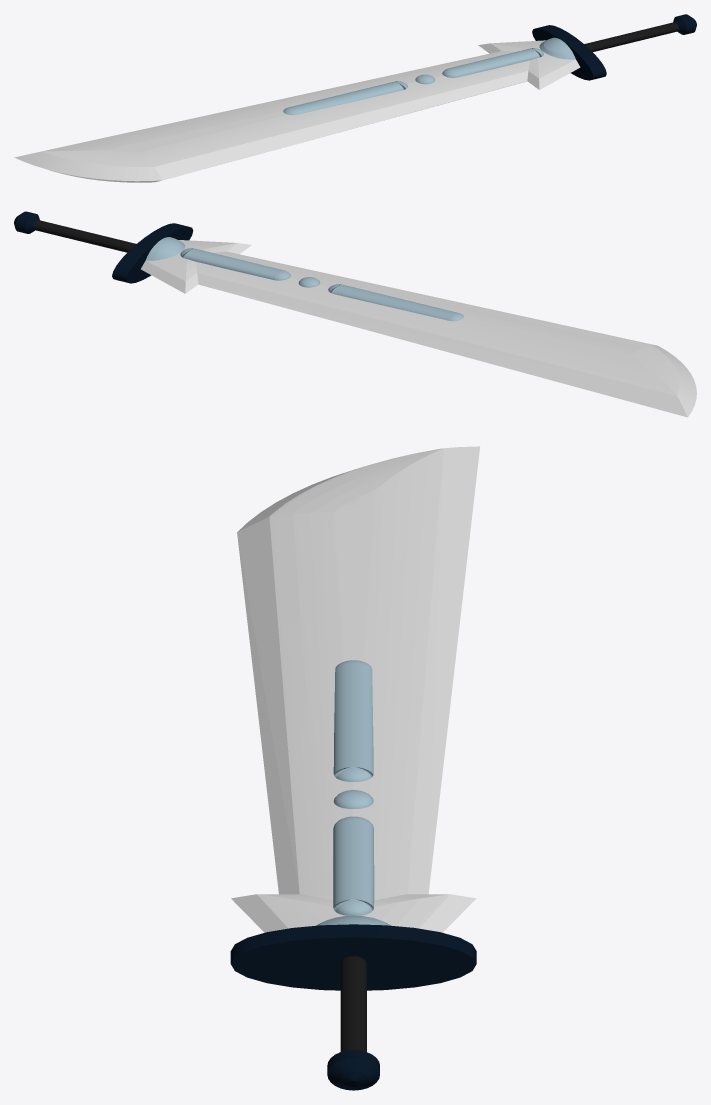
File: Aquamarine+Bolster+Sword.fbx
3 views of the same model, one above another, from view 1: azimuth 30°, elevation 25°; view 2: azimuth 150°, elevation 25°; view 3: azimuth 270°, elevation 25° (orthographic). The views are drawn at different scales.
Visible parts, largest first — view 1: Sword1, Mag1_1_1, Mag1_1, disk1; view 2: Sword1, Mag1_1_1, Mag1_1, disk1; view 3: Sword1, Mag1_1_1, Mag1_1.
Part boxes in pixels (x1,y1,x2,y2): Sword1: (14,14,696,182); Mag1_1_1: (283,81,407,115); Mag1_1: (442,48,543,77); disk1: (539,37,575,59); Sword1: (14,211,696,417); Mag1_1_1: (328,284,463,321); Mag1_1: (180,248,290,280); disk1: (145,237,185,260); Sword1: (230,446,480,1090); Mag1_1_1: (333,660,373,781); Mag1_1: (333,816,374,915).
Bounding box in the file's own units: 293 × 11.56 × 48.69.
